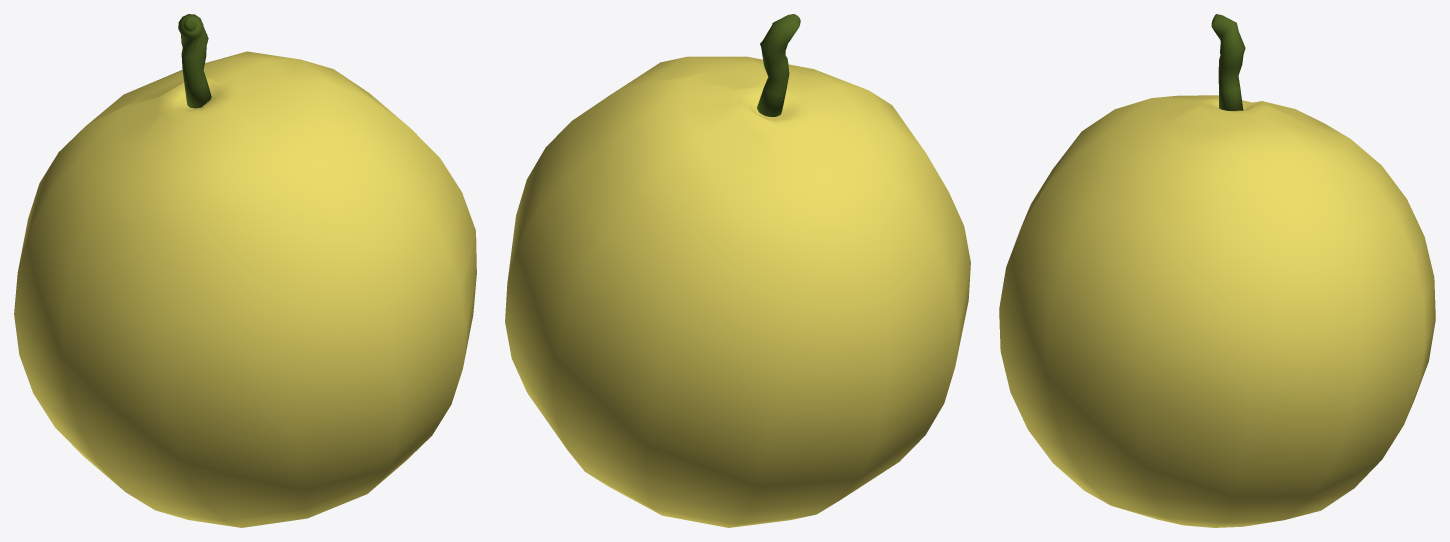
The model's file is naranja.fbx.
3 views of the same model, side by side, from view 1: azimuth 30°, elevation 25°; view 2: azimuth 150°, elevation 25°; view 3: azimuth 270°, elevation 25° (orthographic). The views are drawn at different scales.
Visible parts, largest first — view 1: Esfera, Cilindro; view 2: Esfera, Cilindro; view 3: Esfera, Cilindro.
Boxes of the visible parts, x1=… form: Esfera: x1=14, y1=51, x2=476, y2=527; Cilindro: x1=178, y1=14, x2=211, y2=108; Esfera: x1=505, y1=56, x2=970, y2=527; Cilindro: x1=757, y1=14, x2=800, y2=116; Esfera: x1=999, y1=95, x2=1435, y2=527; Cilindro: x1=1211, y1=14, x2=1245, y2=110.
Size of the model in its own units: 252 by 292 by 248.
